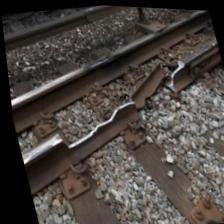person: (16, 20, 224, 182)
